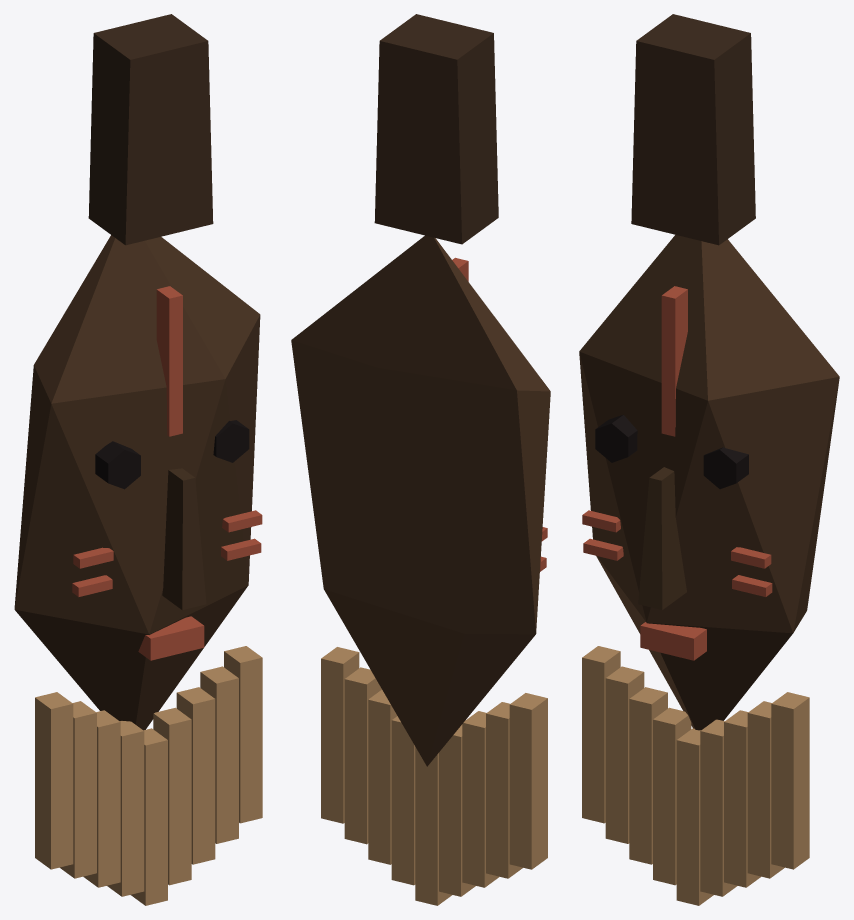
The model's file is wall-mask-49.glb.
3 views of the same model, side by side, from view 1: azimuth 30°, elevation 25°; view 2: azimuth 150°, elevation 25°; view 3: azimuth 330°, elevation 25° (orthographic).
Parts seen in each view (by area): view 1: wall_mask_49; view 2: wall_mask_49; view 3: wall_mask_49.
Part boxes in pixels (x1,y1,x2,y2): wall_mask_49: (14, 14, 262, 905); wall_mask_49: (291, 14, 550, 905); wall_mask_49: (579, 14, 839, 905).
Bounding box in the file's own units: 0.2206 × 0.7389 × 0.096.
